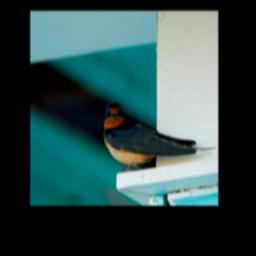Swallow: (101, 98, 216, 171)
